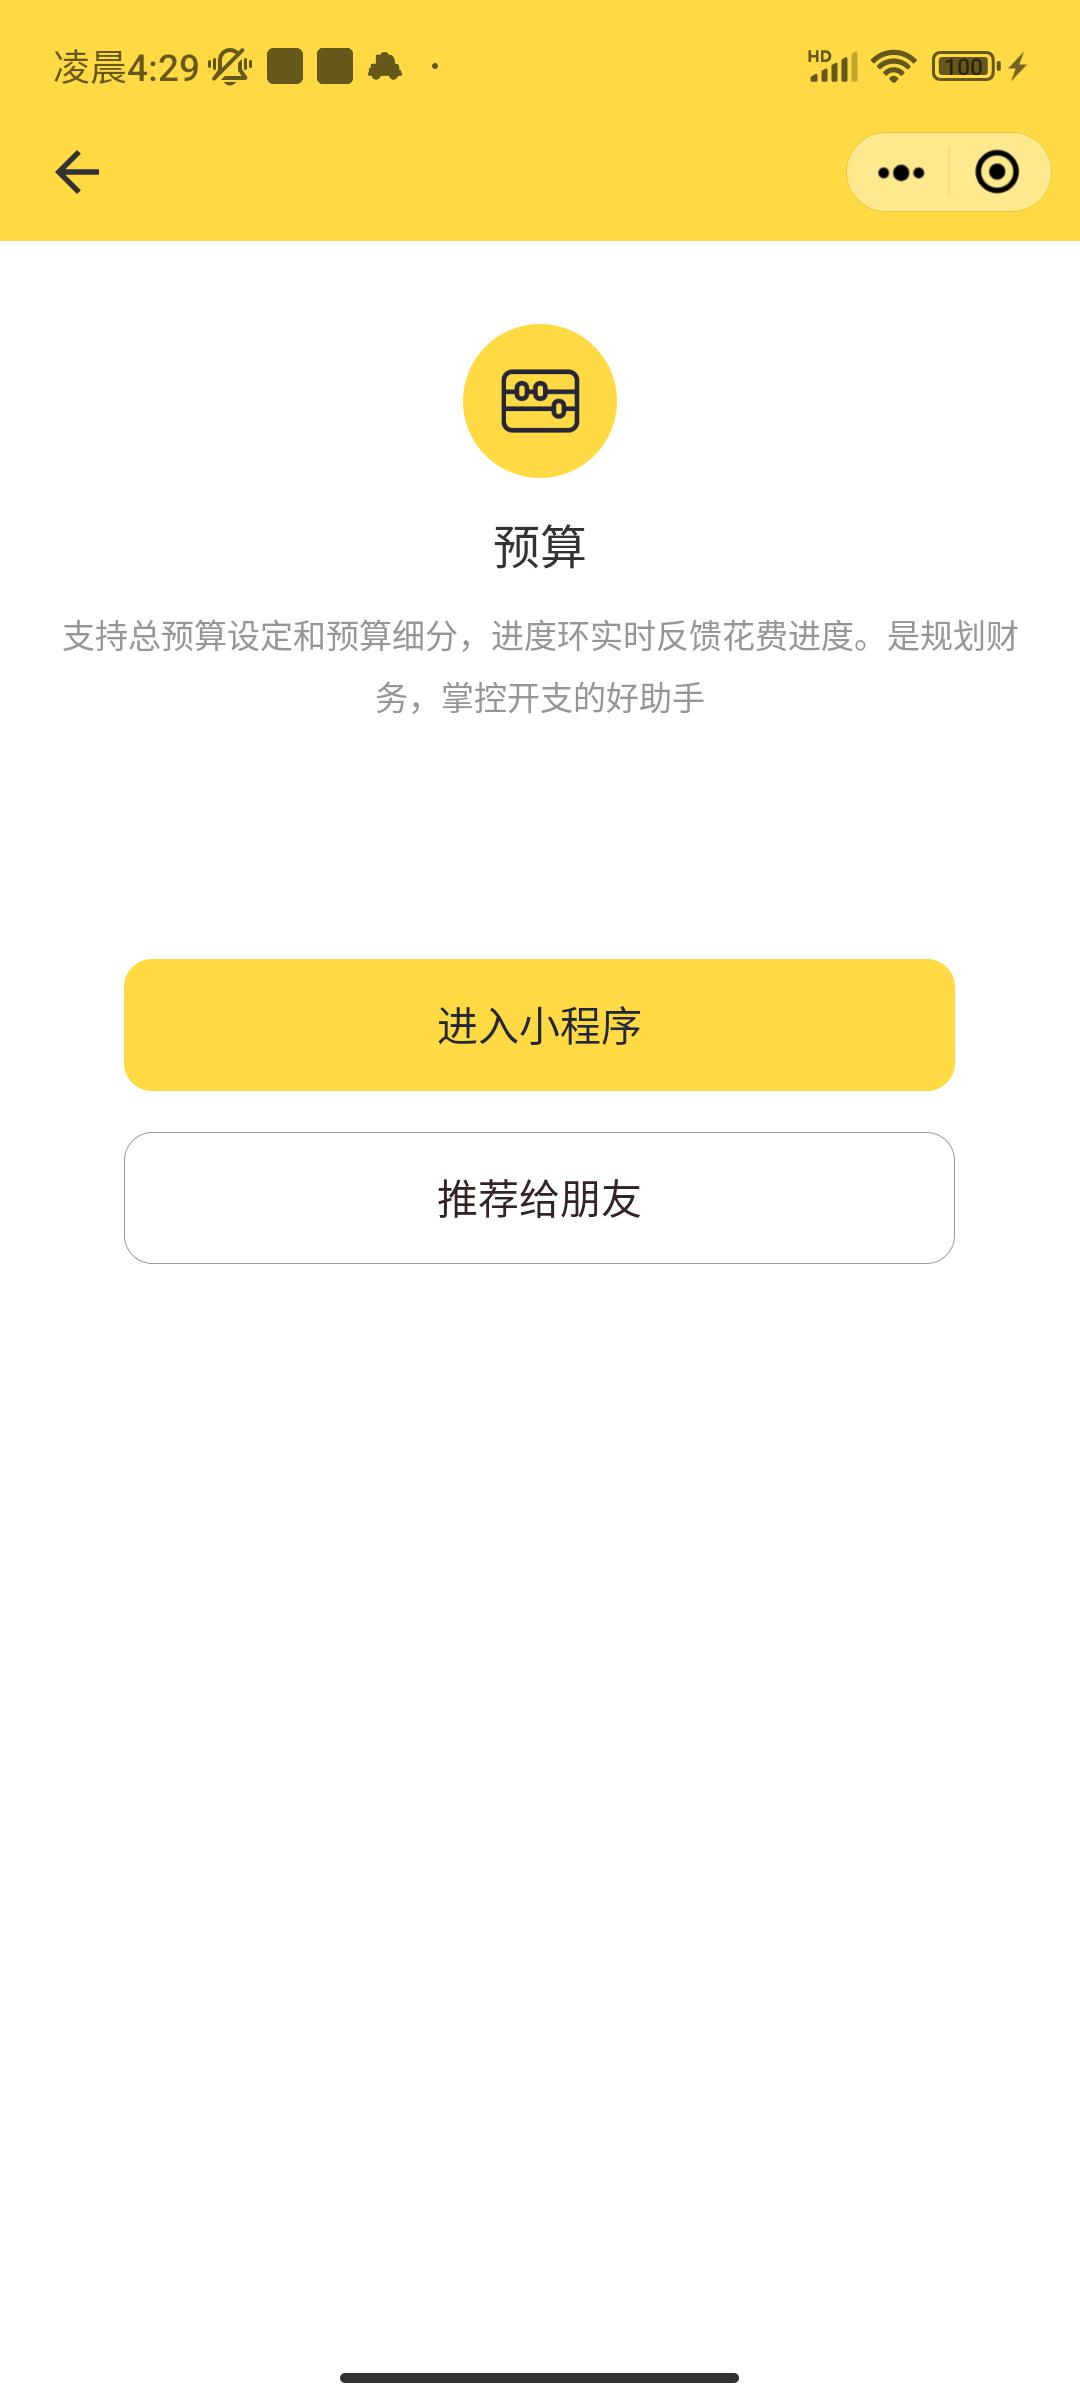ui_group: (37, 295, 1063, 1304)
